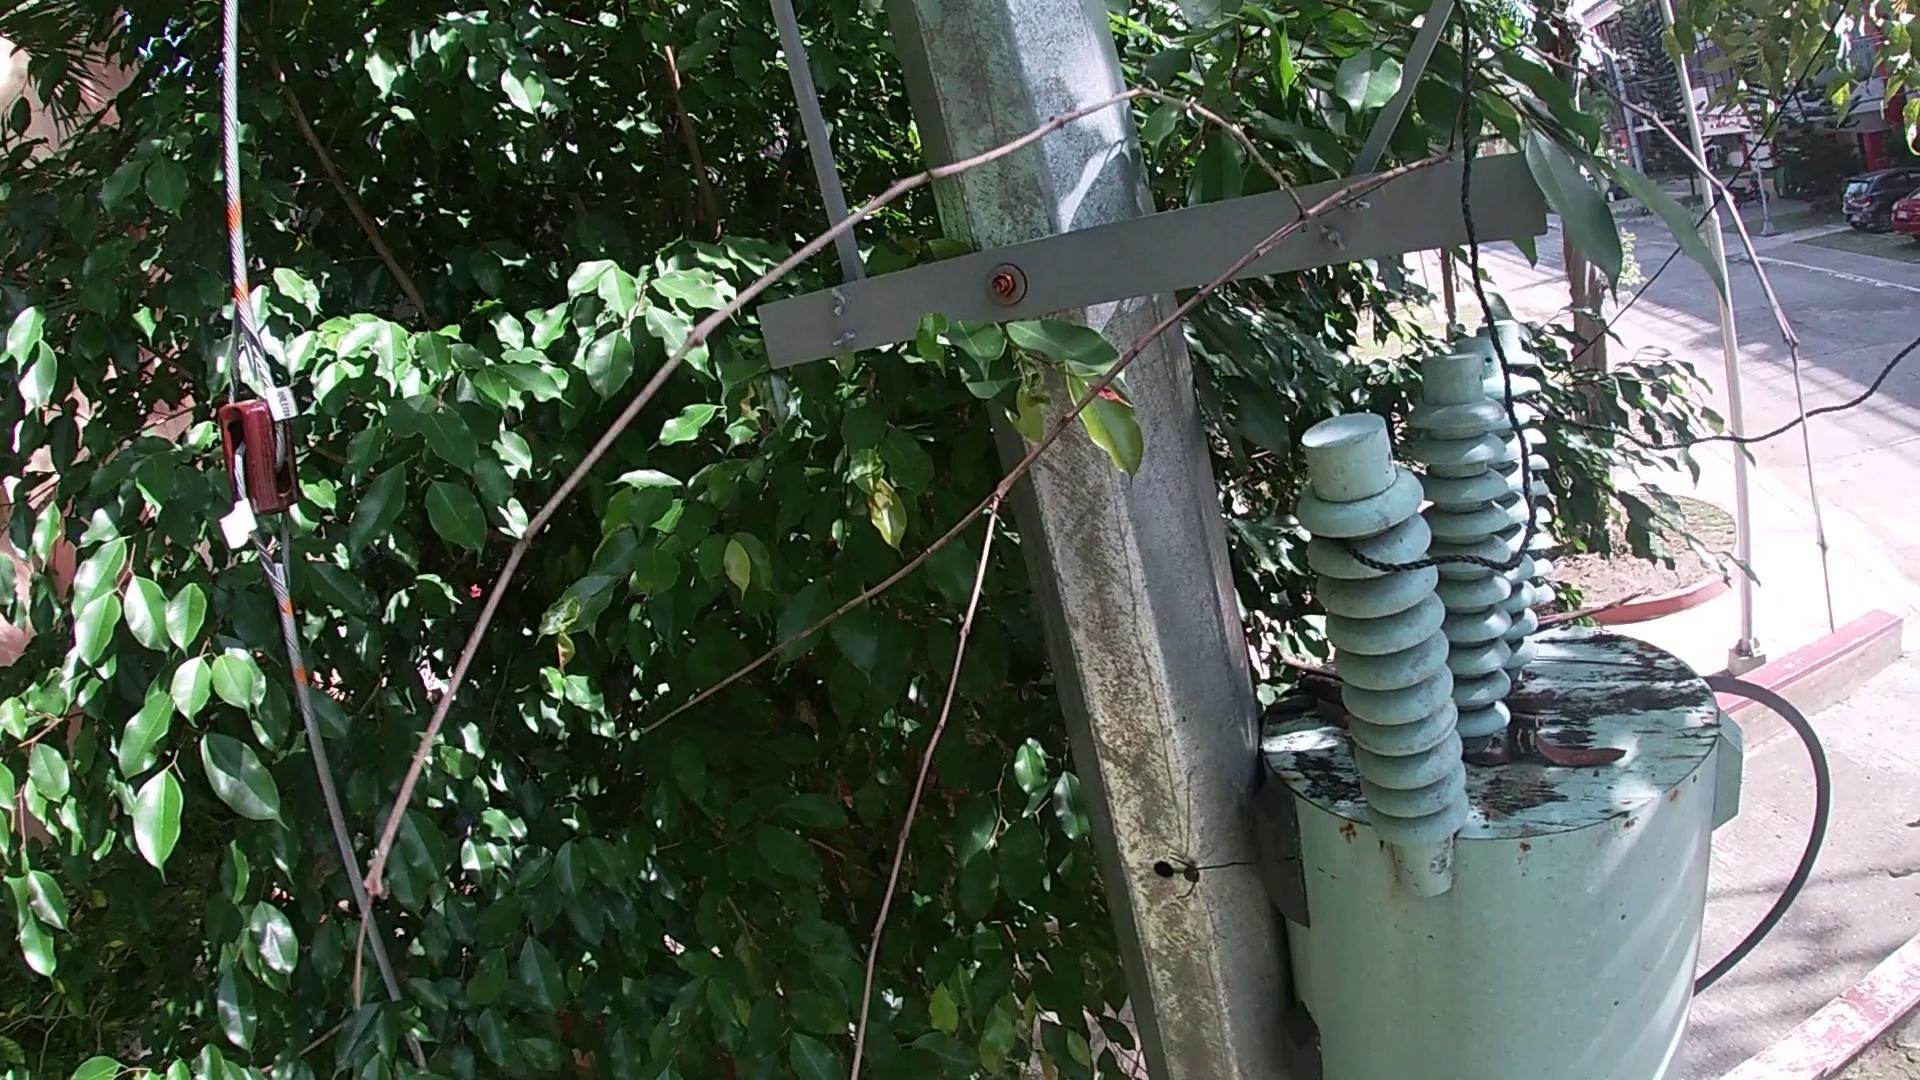leaf: (1523, 717, 1633, 771), (1308, 696, 1345, 727)
tree branch: (339, 32, 1840, 1077), (1535, 583, 1654, 632), (1274, 654, 1352, 704)
